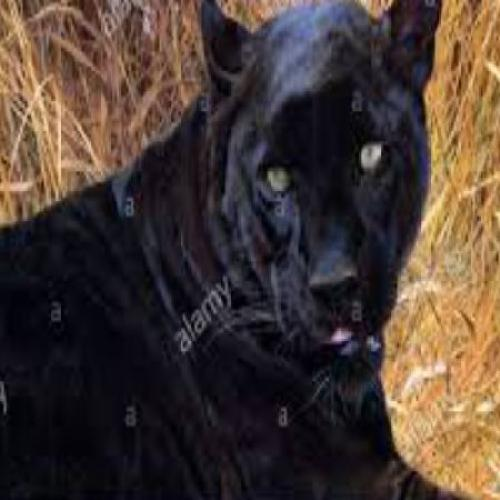panther-endangered: (10, 9, 443, 500)
